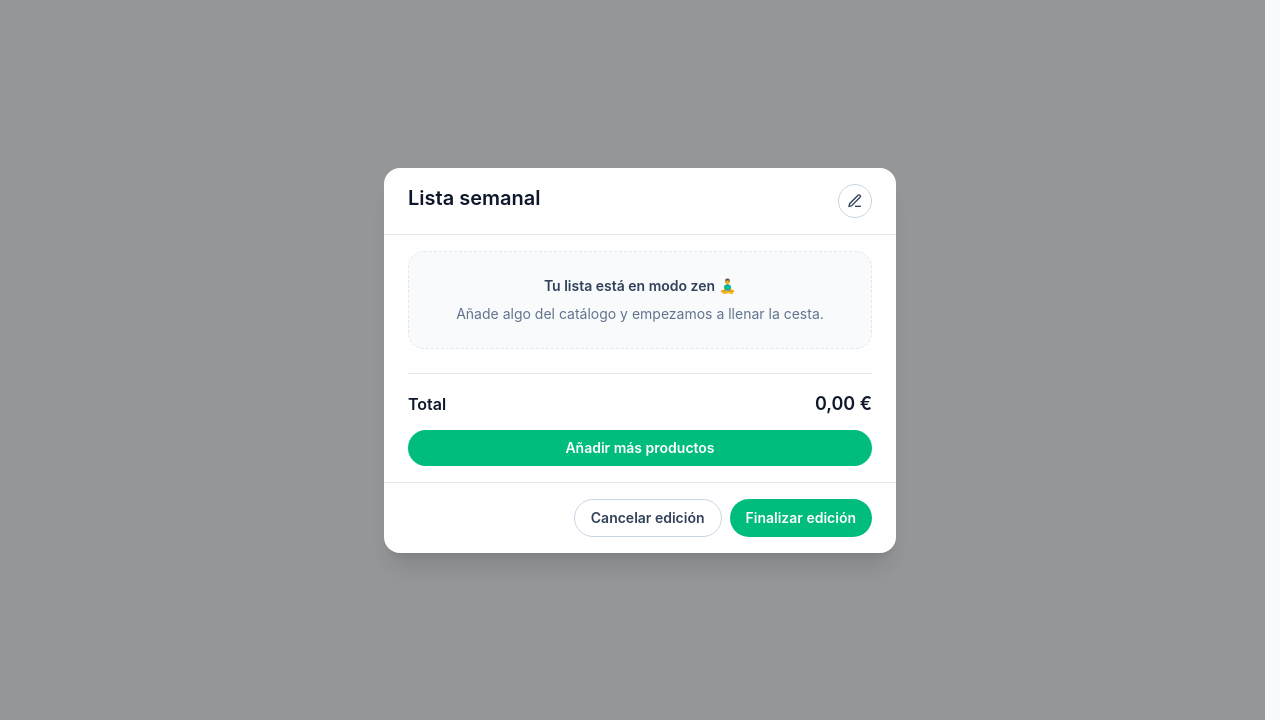
Test case: ShoppingList › finaliza edición activa, navega a catálogo y muestra toast
Click the button "Finalizar edición".
click(801, 518)  # box [730,498,872,536]
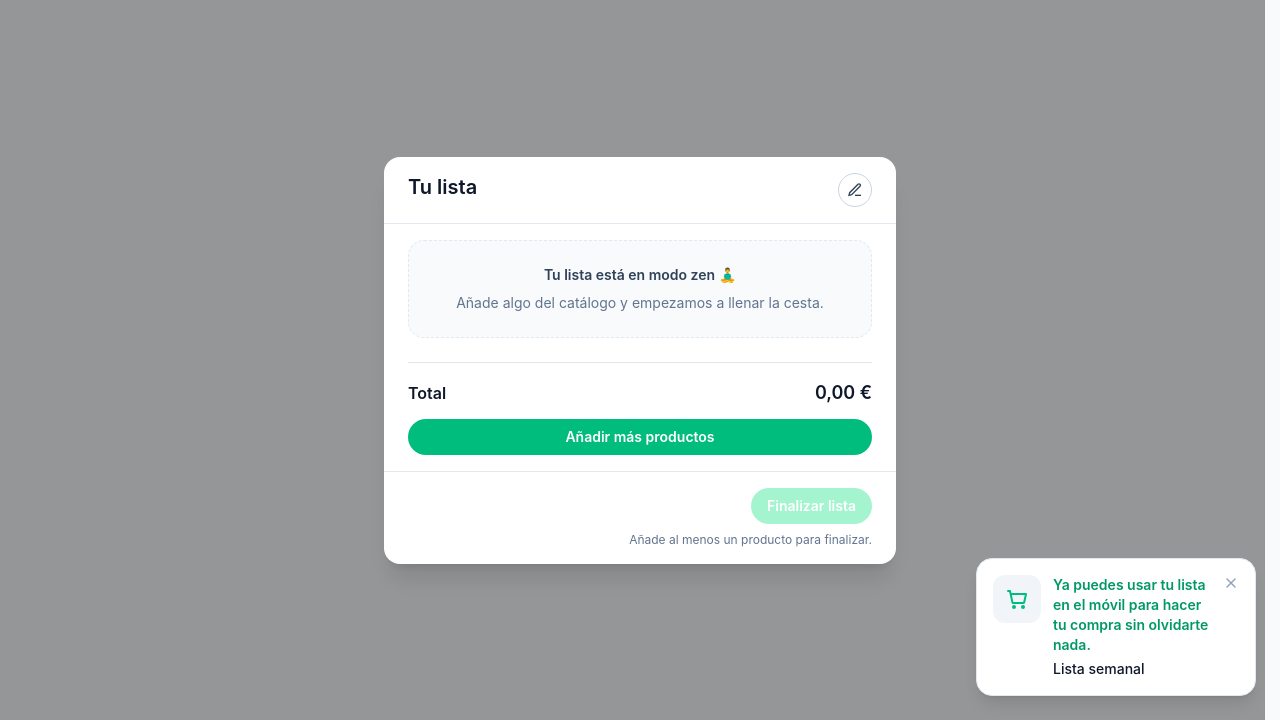
Expected: the text "Ya puedes usar tu lista en el móvil para hacer tu compra sin olvidarte nada." is shown, [1053,575,1211,655]
